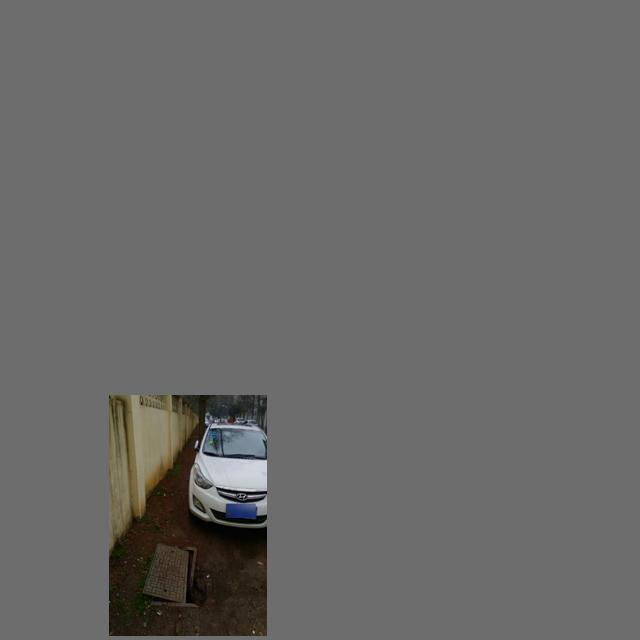uncovered: (141, 543, 197, 608)
